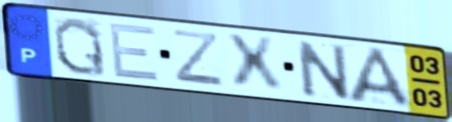A: (345, 45, 417, 111)
E: (106, 21, 162, 84)
N: (294, 38, 354, 102)
Q: (51, 15, 109, 79)
X: (222, 32, 287, 94)
Z: (170, 27, 227, 89)
